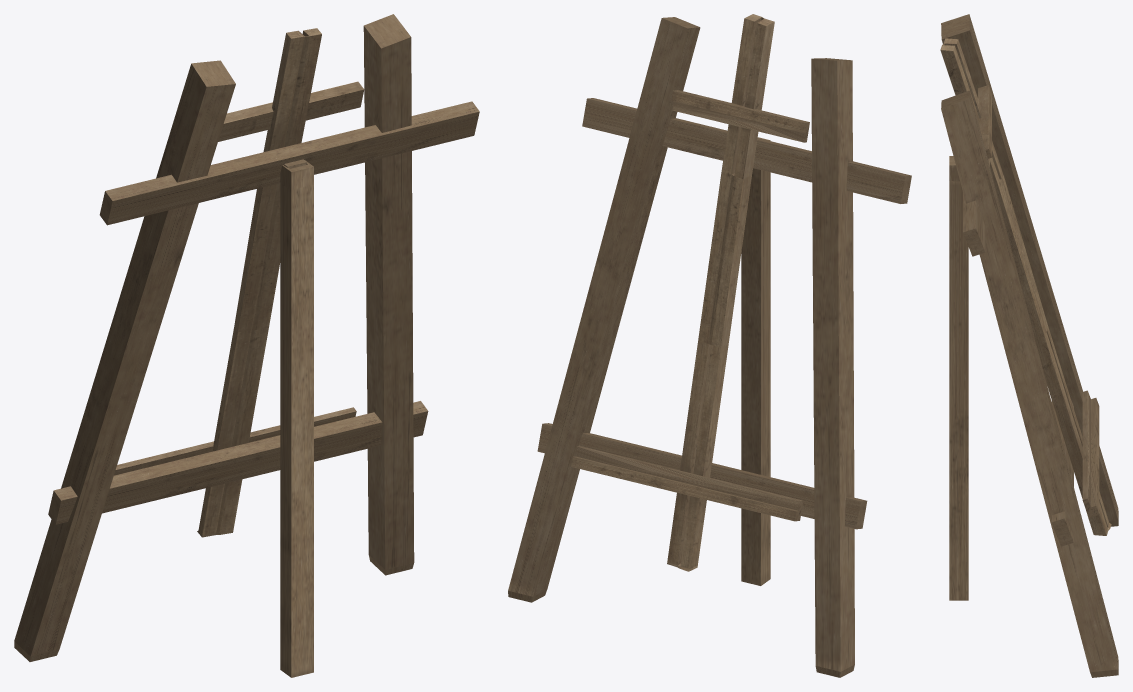
File: cavalete_TEXTURIZADO.fbx
The picture shows the model from 3 angles, left to right: view 1: azimuth 30°, elevation 25°; view 2: azimuth 150°, elevation 25°; view 3: azimuth 270°, elevation 25°; orthographic projection. The views are drawn at different scales.
Visible parts, largest first — view 1: Cube.075; view 2: Cube.075; view 3: Cube.075.
Boxes of the visible parts, x1=… form: Cube.075: x1=14, y1=14, x2=479, y2=677; Cube.075: x1=508, y1=14, x2=911, y2=677; Cube.075: x1=940, y1=14, x2=1118, y2=677.
Size of the model in its own units: 123 by 197 by 57.64.
1 material, 1 textured.
